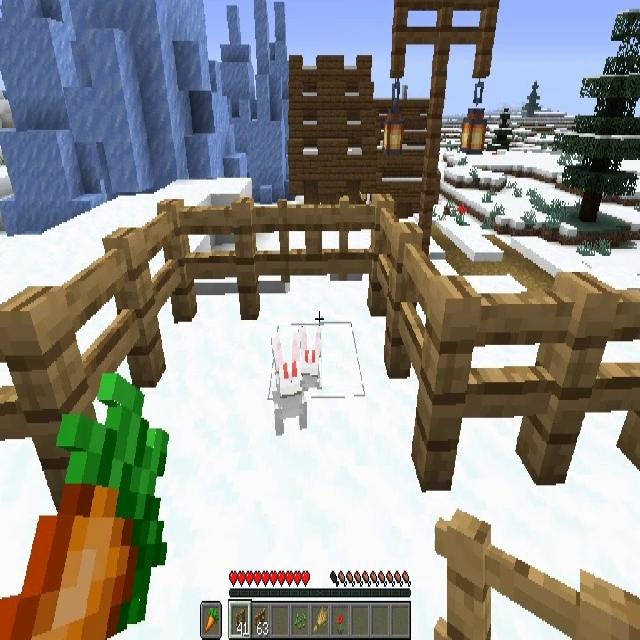rabbit: (268, 329, 308, 436), (300, 326, 322, 387)
